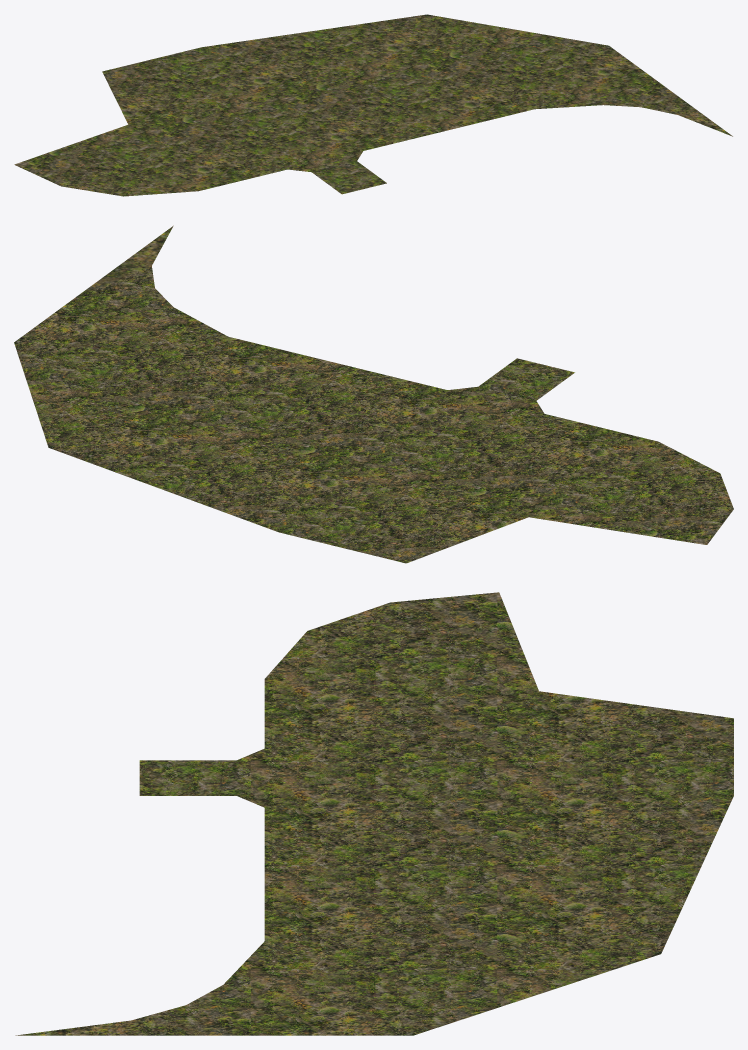
File: Planter_DirtPlane_Unique05.FBX
3 views of the same model, one above another, from view 1: azimuth 30°, elevation 25°; view 2: azimuth 150°, elevation 25°; view 3: azimuth 270°, elevation 25° (orthographic). The views are drawn at different scales.
Visible parts, largest first — view 1: Planter_DirtPlane_Unique05; view 2: Planter_DirtPlane_Unique05; view 3: Planter_DirtPlane_Unique05.
Boxes of the visible parts, box(x1,y1,x2,y2) form: Planter_DirtPlane_Unique05: box(14, 14, 732, 196); Planter_DirtPlane_Unique05: box(14, 225, 733, 563); Planter_DirtPlane_Unique05: box(15, 592, 733, 1035).
Size of the model in its own units: 17.04 by 3.31e-15 by 11.69.
